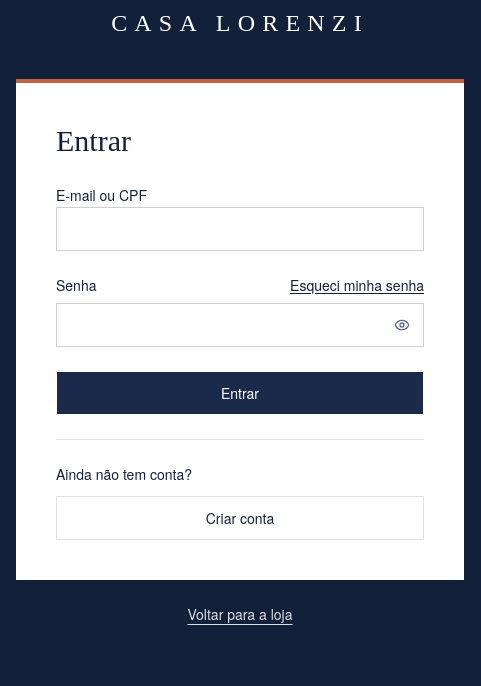
it: tela Entrar › campos vazios avisam sem tentar entrar
The width and height of the screenshot is (481, 686).
Click the button "Entrar" at (240, 393), box [56,371,424,415]
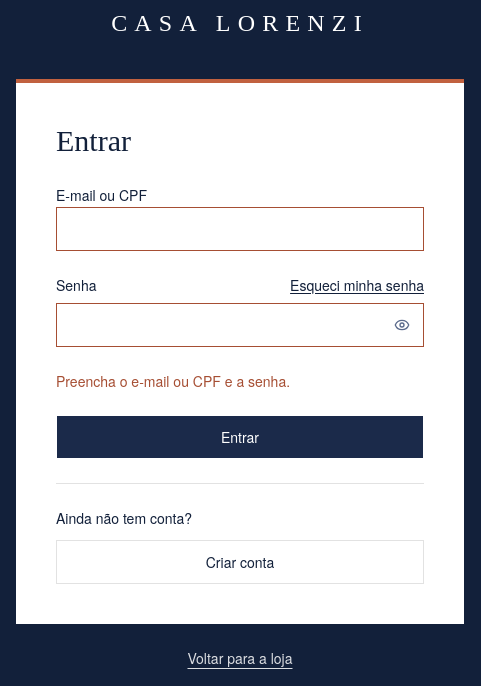
expect the text "Preencha o e-mail ou CPF e a senha." is shown: met, box [56,371,290,391]
